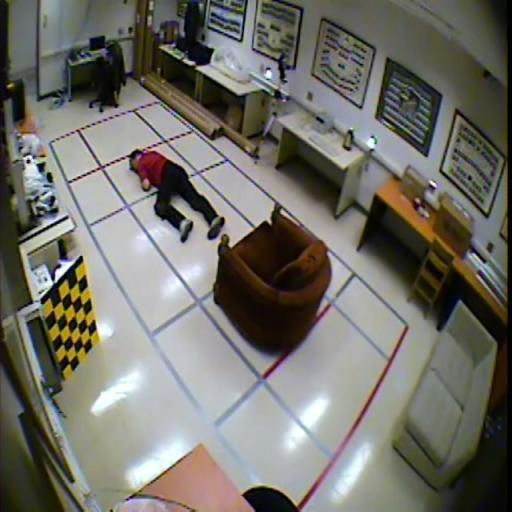Fall: (128, 148, 226, 242)
